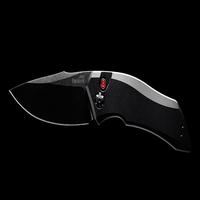knife: (10, 64, 200, 151)
